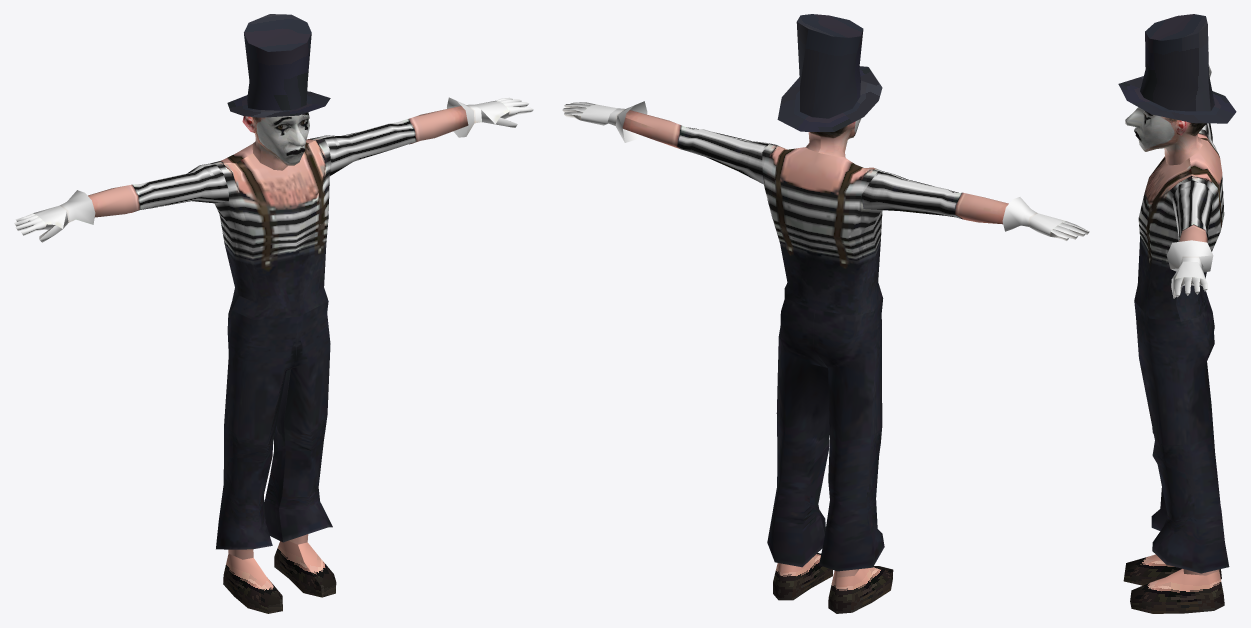
File: THUG 2 - Mime.obj
The picture shows the model from 3 angles, left to right: view 1: azimuth 30°, elevation 25°; view 2: azimuth 150°, elevation 25°; view 3: azimuth 270°, elevation 25°; orthographic projection.
Parts seen in each view (by area): view 1: DrawCall_0051, DrawCall_0050, DrawCall_0047, DrawCall_0048, DrawCall_0049; view 2: DrawCall_0051, DrawCall_0050, DrawCall_0047, DrawCall_0048, DrawCall_0049; view 3: DrawCall_0050, DrawCall_0051, DrawCall_0047, DrawCall_0048, DrawCall_0049.
Boxes of the visible parts, bbox=[...] form: DrawCall_0051: bbox=[14, 97, 533, 559]; DrawCall_0050: bbox=[216, 301, 332, 549]; DrawCall_0047: bbox=[227, 14, 330, 117]; DrawCall_0048: bbox=[223, 541, 336, 613]; DrawCall_0049: bbox=[242, 112, 309, 170]; DrawCall_0051: bbox=[562, 101, 1089, 577]; DrawCall_0050: bbox=[767, 297, 884, 571]; DrawCall_0047: bbox=[777, 14, 882, 131]; DrawCall_0048: bbox=[773, 553, 893, 613]; DrawCall_0049: bbox=[806, 118, 861, 157]; DrawCall_0050: bbox=[1134, 300, 1229, 573]; DrawCall_0051: bbox=[1134, 45, 1224, 575]; DrawCall_0047: bbox=[1118, 14, 1236, 123]; DrawCall_0048: bbox=[1123, 554, 1224, 613]; DrawCall_0049: bbox=[1125, 107, 1206, 165].
Size of the model in its own units: 74.73 by 78.38 by 14.68.
